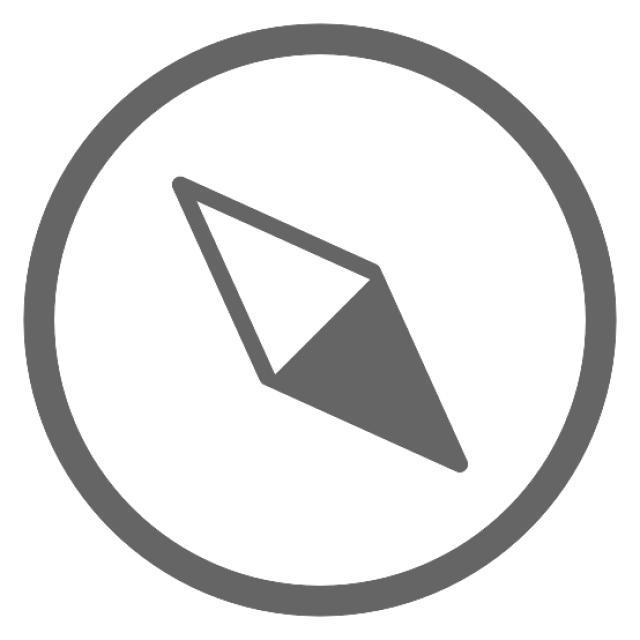compass: (14, 16, 628, 632)
